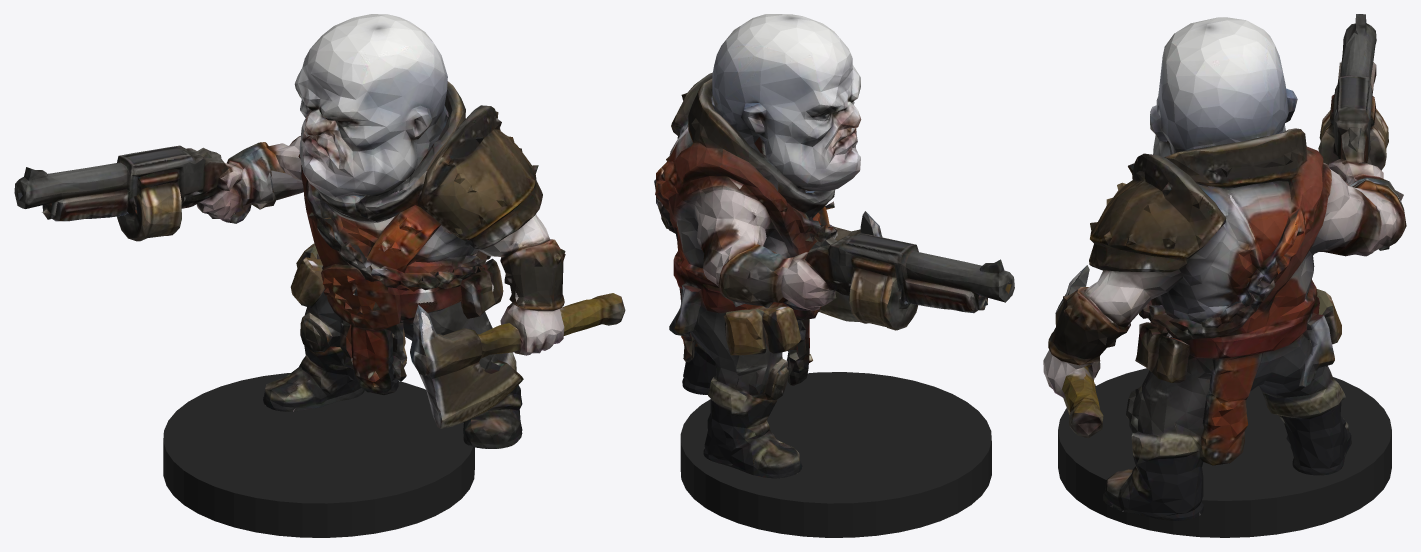
The model's file is goliath-forge-boss-combat-shotgun.glb.
3 renders of one model, left to right at view 1: azimuth 30°, elevation 25°; view 2: azimuth 150°, elevation 25°; view 3: azimuth 270°, elevation 25°, orthographic. The views are drawn at different scales.
Parts seen in each view (by area): view 1: figure, base; view 2: figure, base; view 3: figure, base.
Part boxes in pixels (x1,y1,x2,y2): figure: (14, 14, 625, 448); base: (163, 373, 474, 537); figure: (654, 14, 1014, 478); base: (680, 372, 991, 537); figure: (1043, 14, 1406, 520); base: (1058, 368, 1391, 537).
Size of the model in its own units: 1.72 by 1.52 by 1.07.
2 materials, 1 textured.
